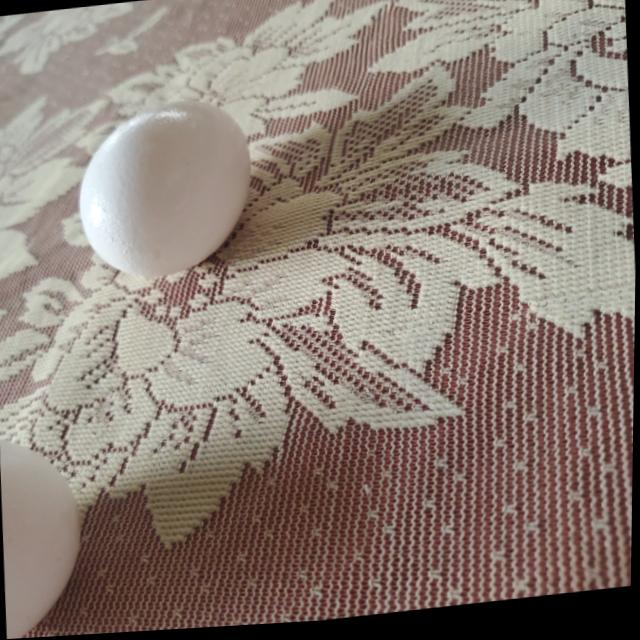egg: (72, 100, 258, 287), (0, 424, 89, 640)
